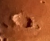crater: (3, 5, 47, 35)
